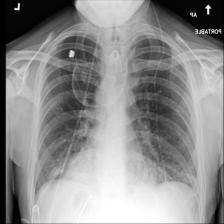normal: (30, 24, 202, 205)
